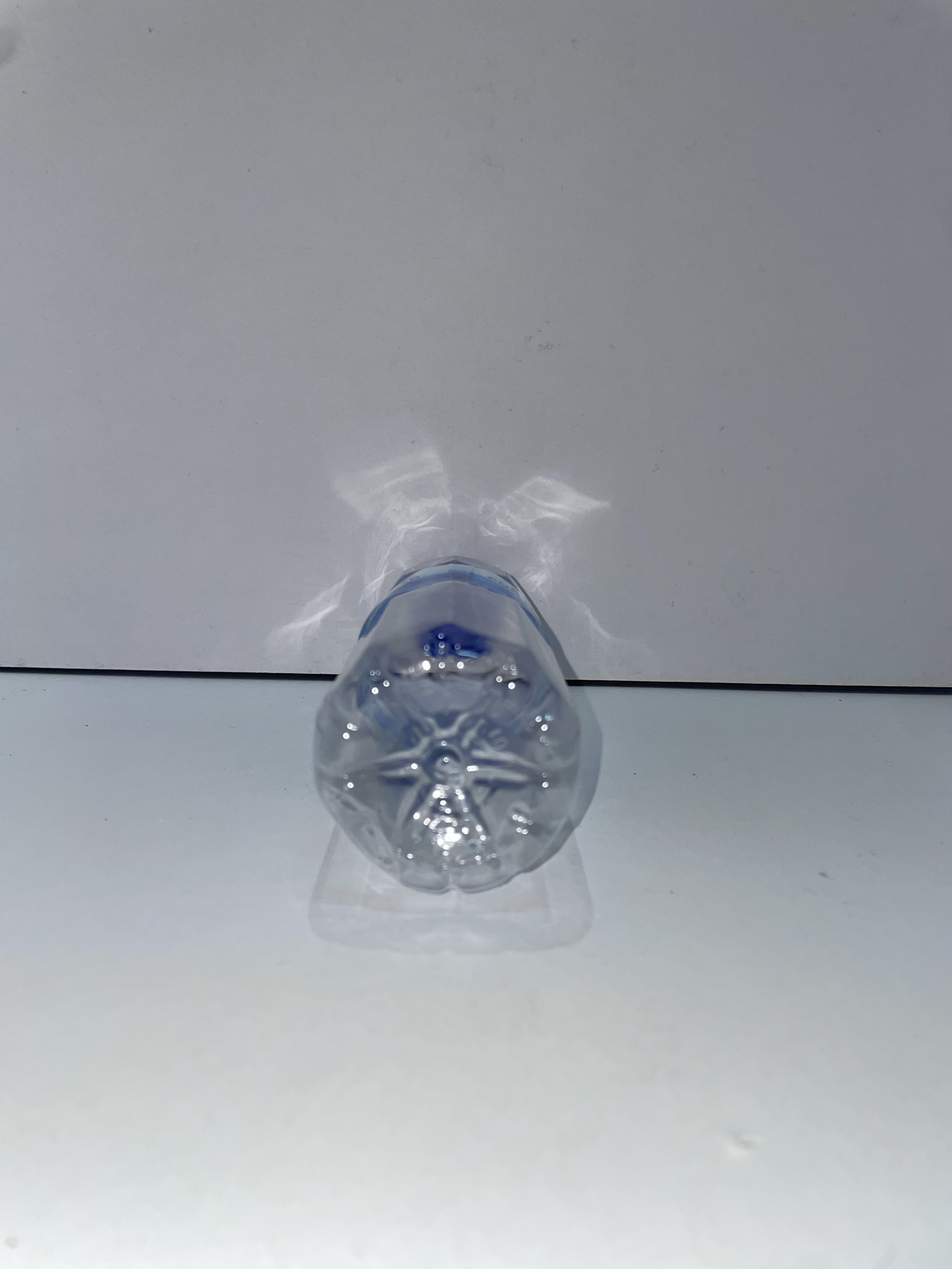Aquaspring 350ml: (315, 559, 581, 894)
